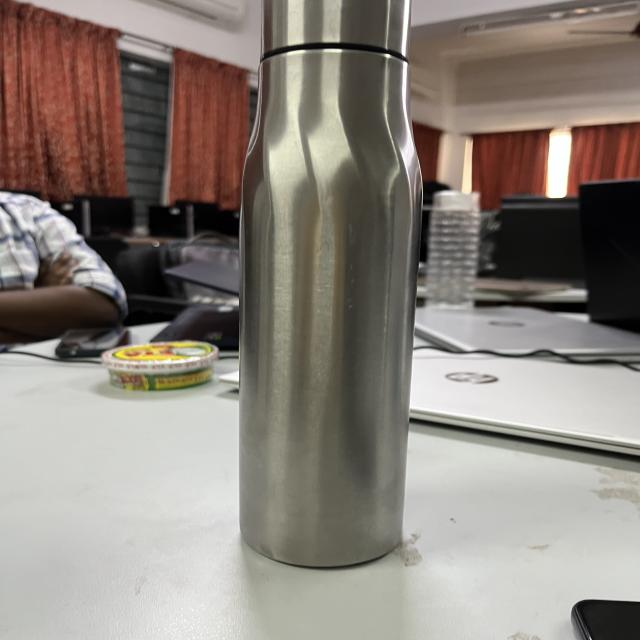L3: (233, 3, 423, 581)
